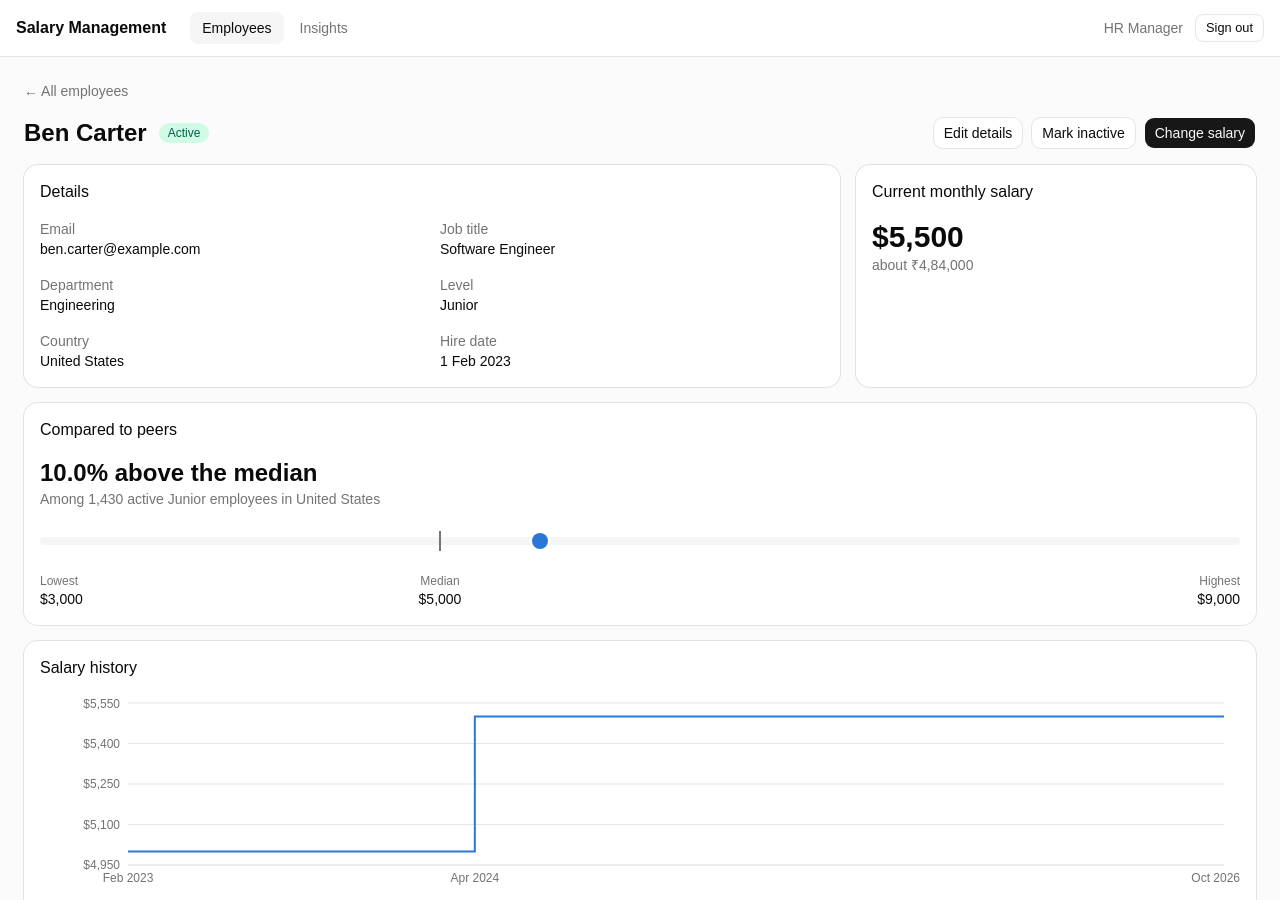
Test: changing a salary › records the new salary and shows it at the top of the history
Click the button "Change salary".
click(1200, 133)  # box [1144, 117, 1256, 149]
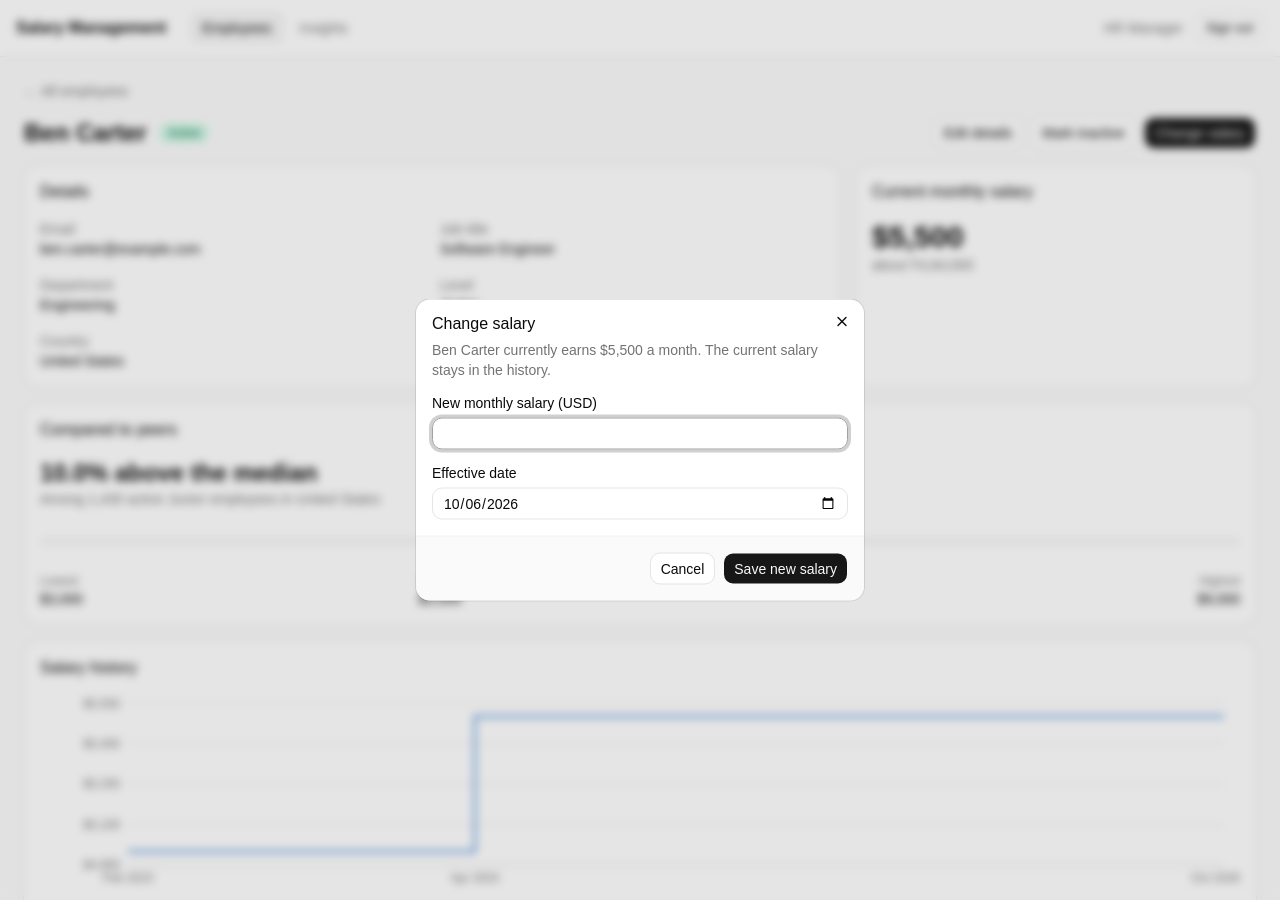
expect the text "currently earns $5,500 a month" is shown: met, box [432, 340, 848, 380]
Type "6000" into the field labelled "New monthly salary (USD)".
click(640, 434); type("6000")  # box [432, 418, 848, 450]
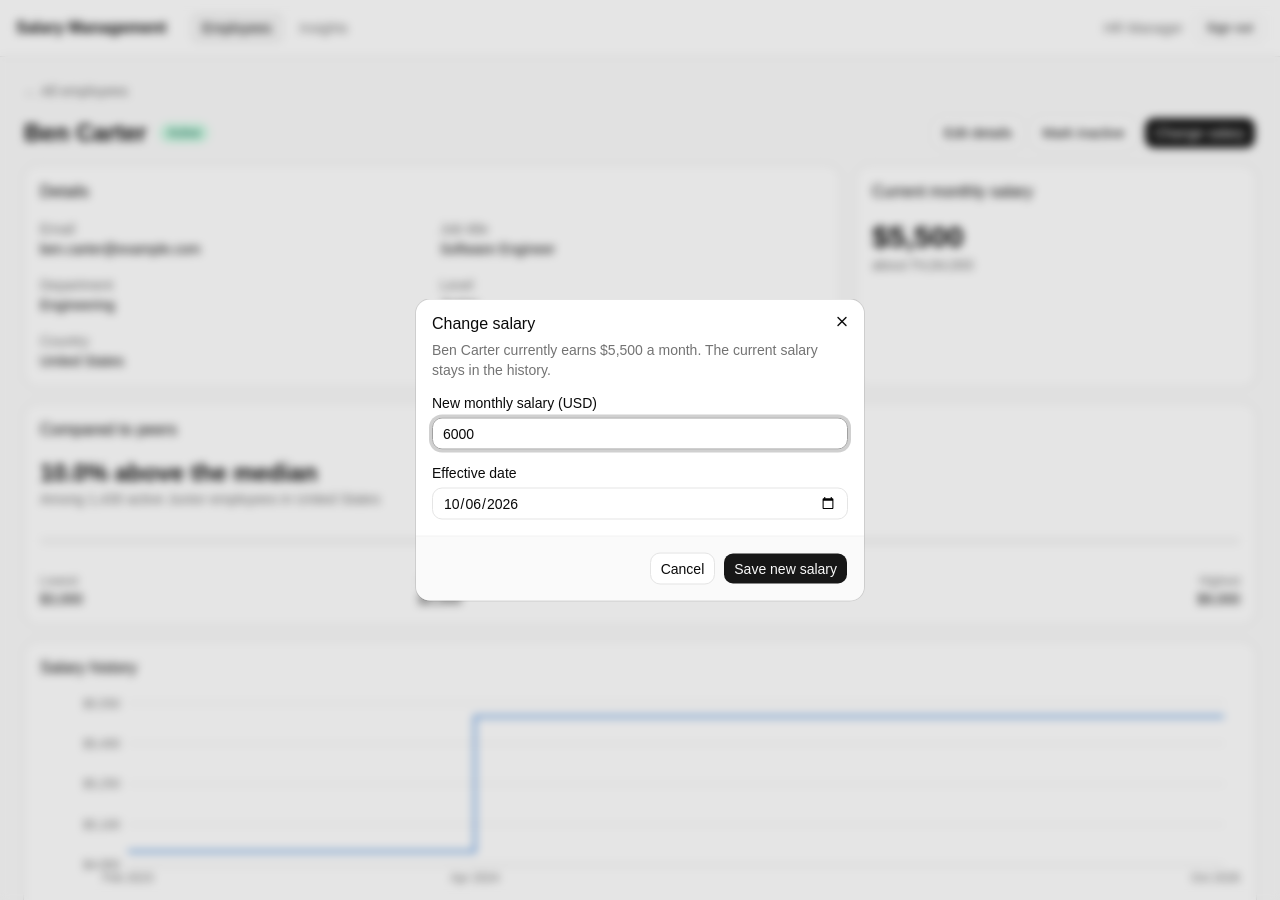
Type "2025-04-01" into the date field labelled "Effective date".
click(640, 504); type("2025-04-01")  # box [432, 488, 848, 520]
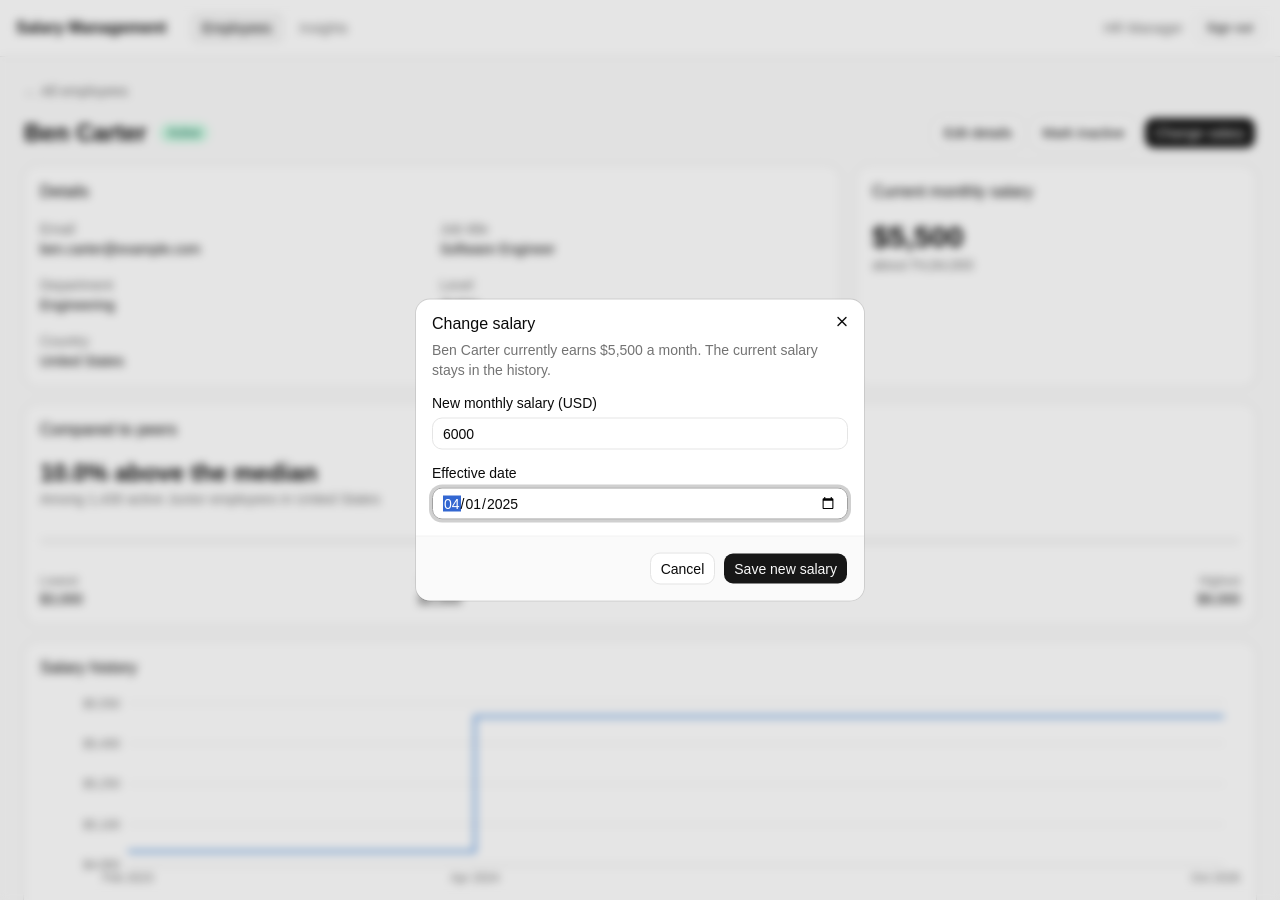
Click the button "Save new salary".
click(786, 568)  # box [723, 552, 848, 584]
(page scrolled)
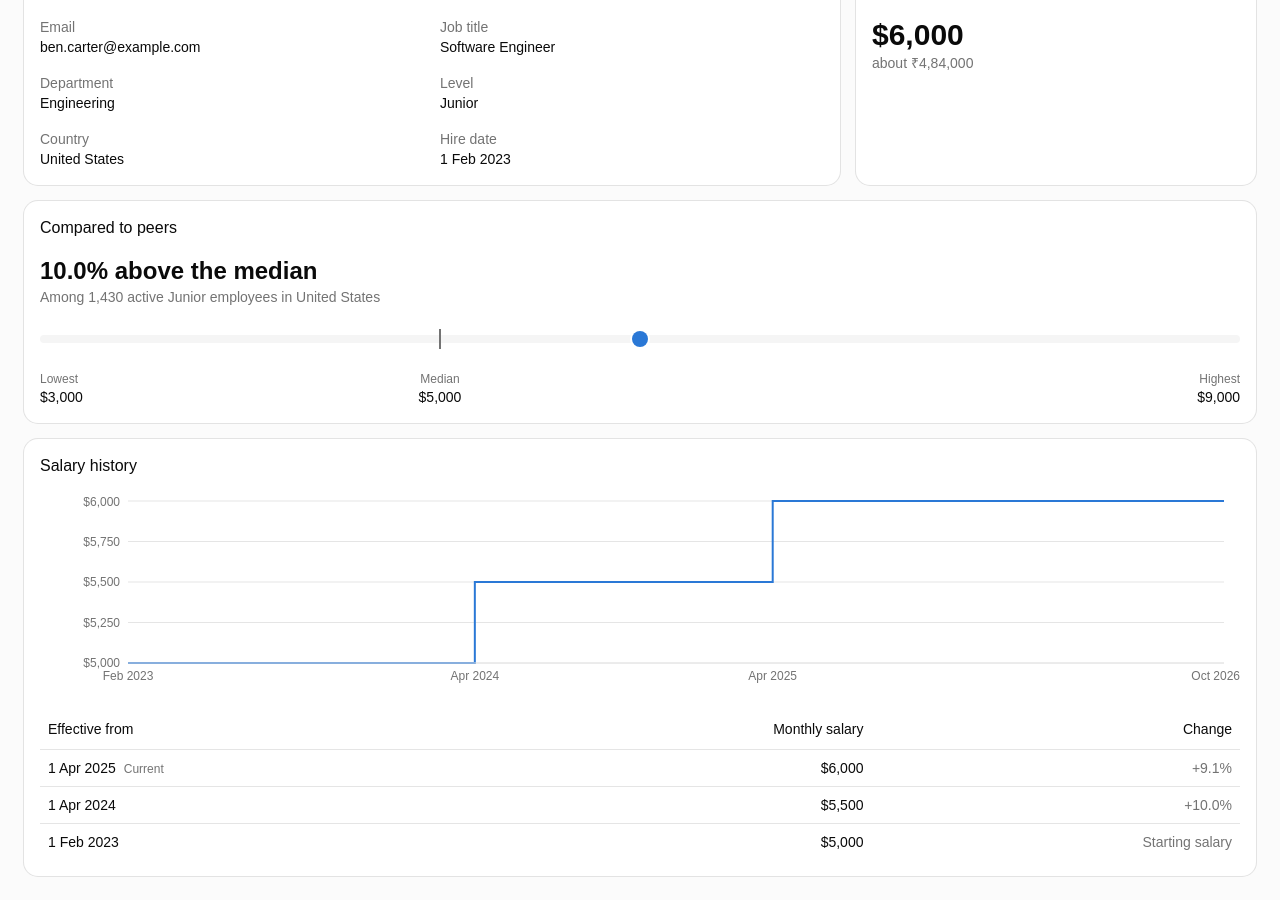
expect the text "1 Apr 2025" is shown: met, box [48, 760, 116, 776]
expect the row "1 Apr 2025Current $6,000 +9.1%" is shown: met, box [40, 749, 1240, 786]
expect the dialog is gone: met
